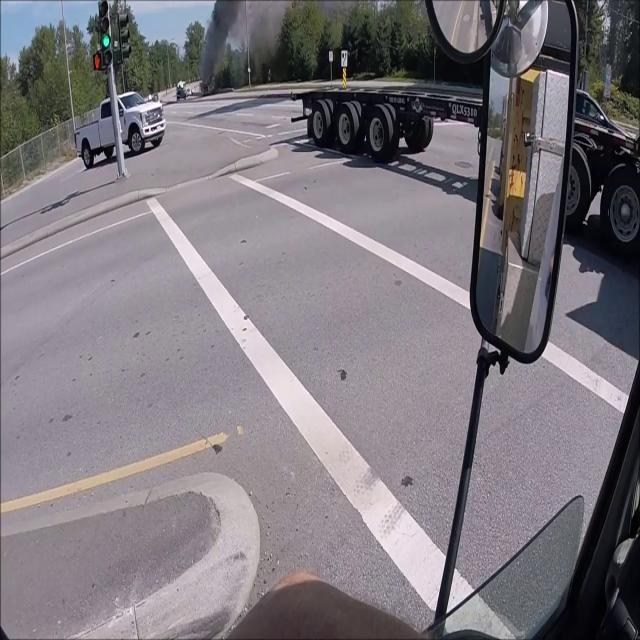Smoke: (200, 0, 245, 68)
